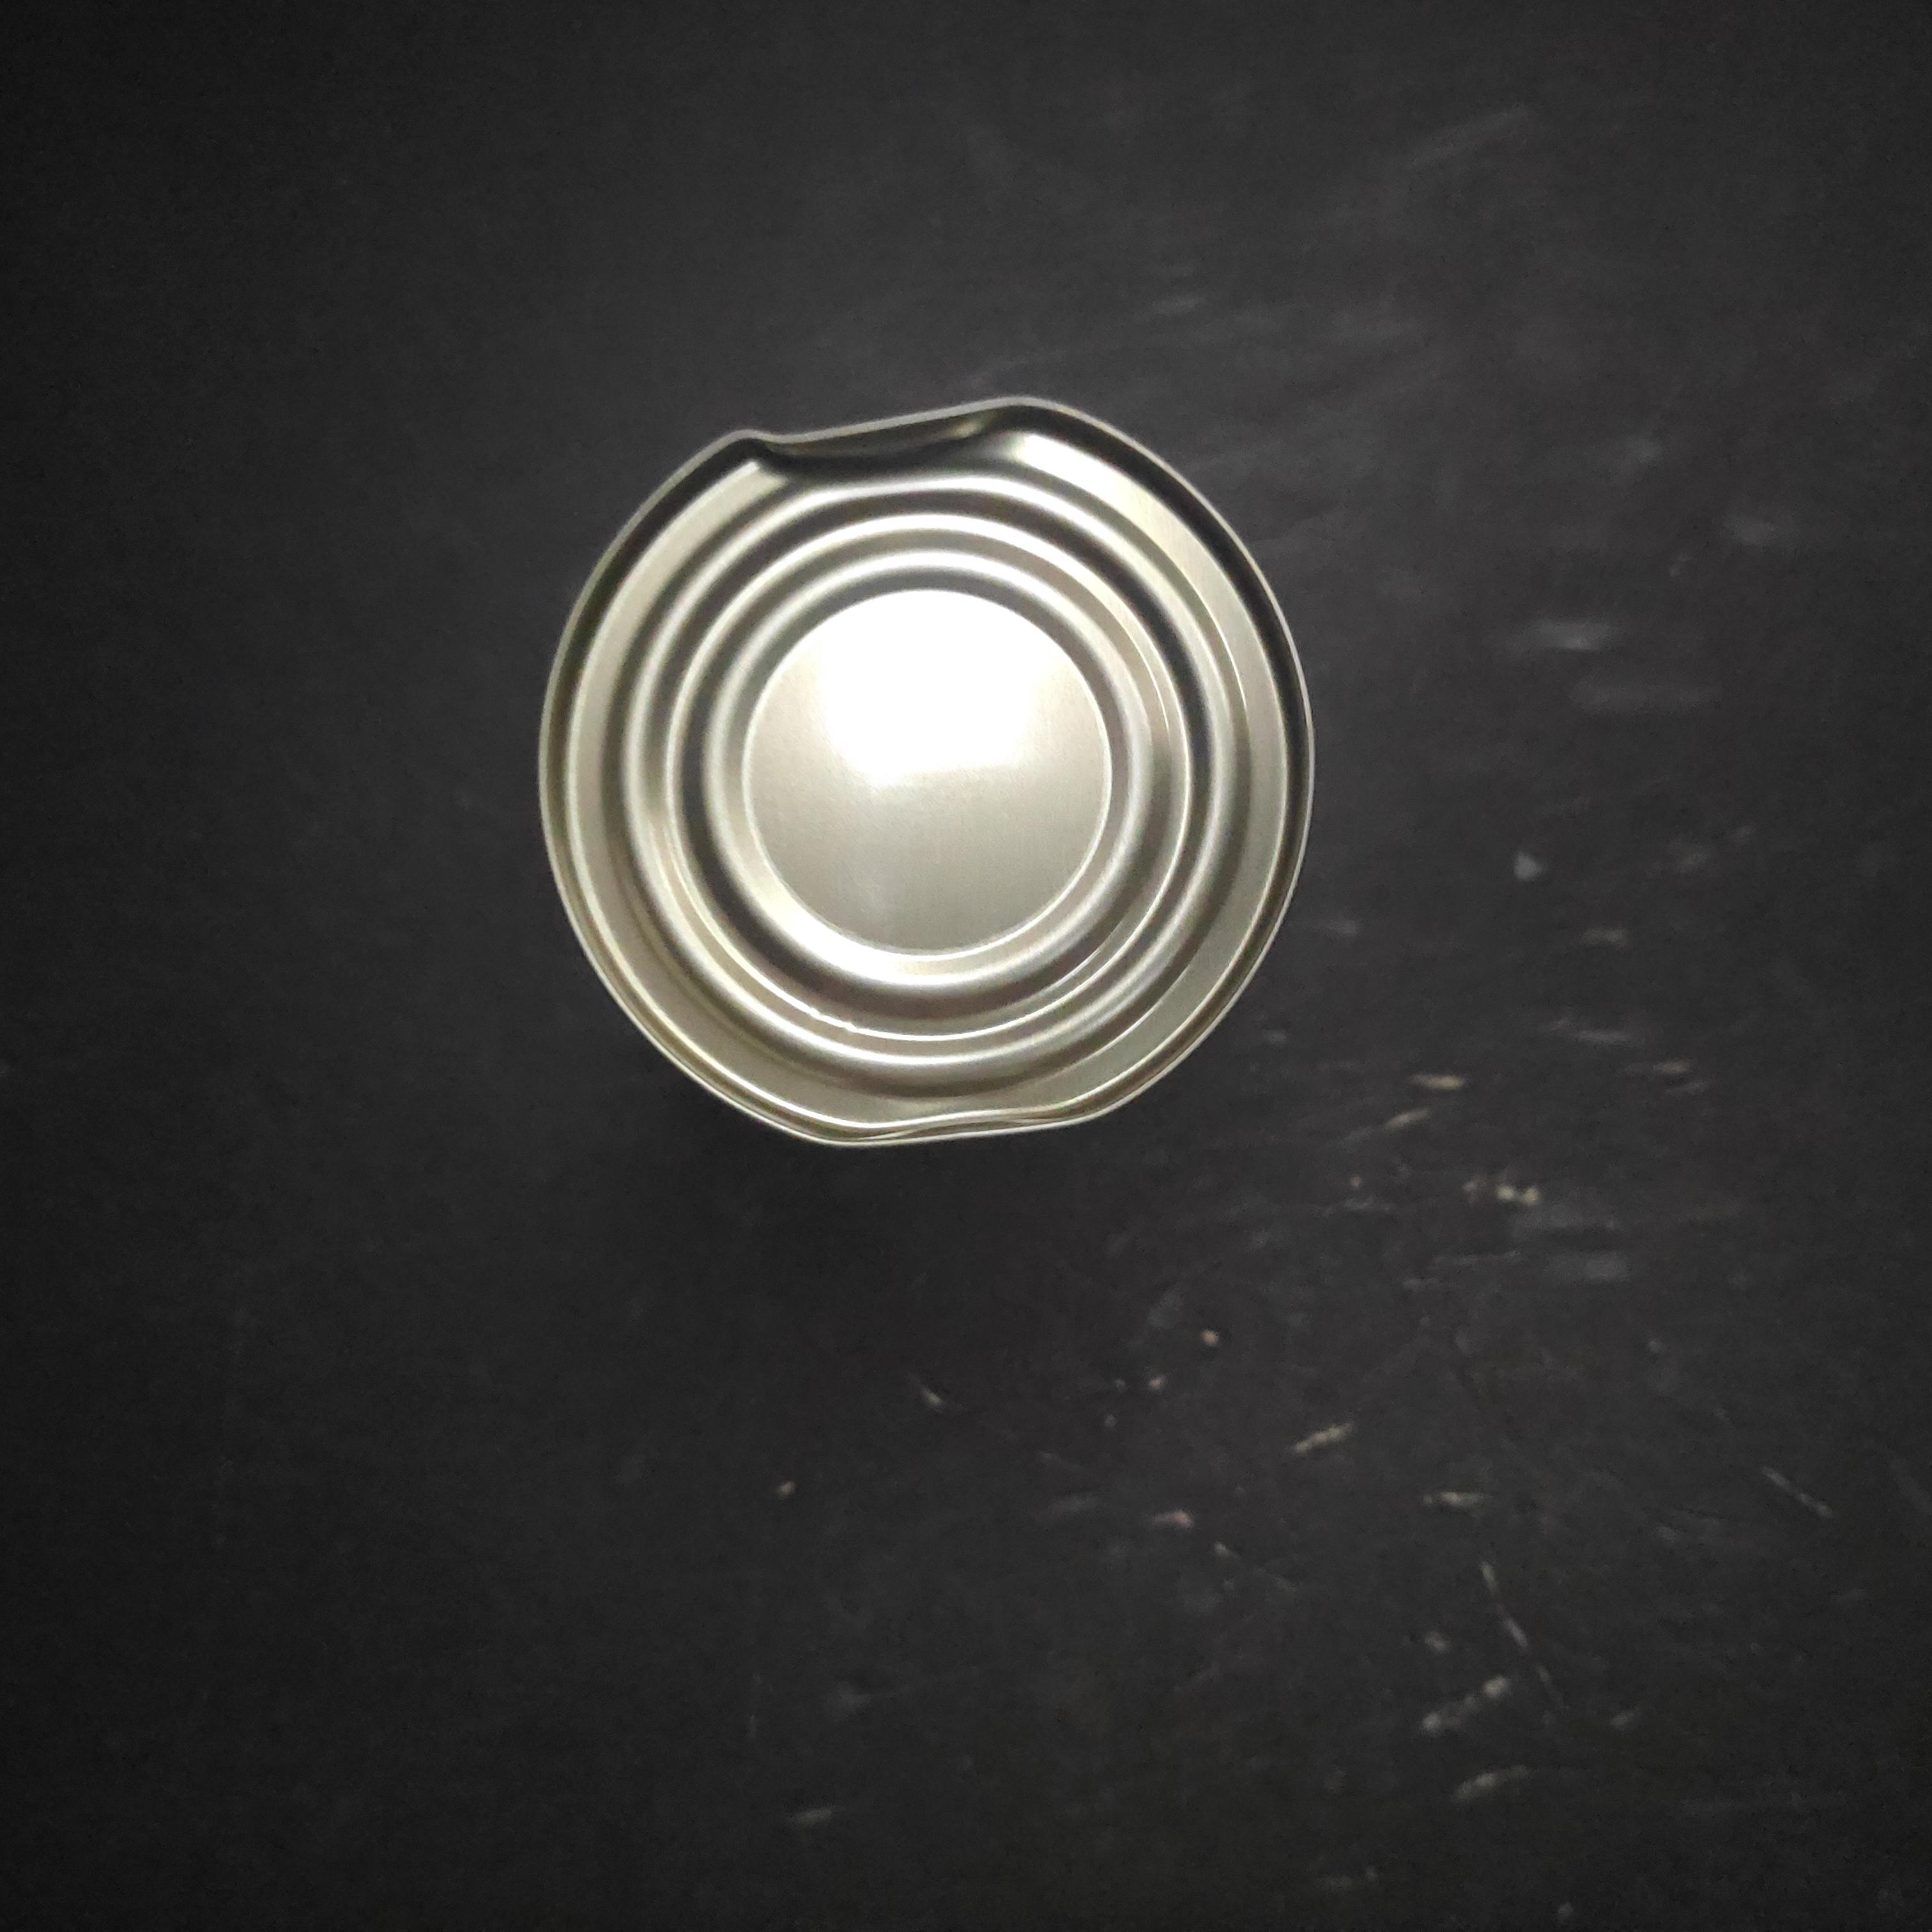Minor Defect: (598, 771, 1415, 1559)
